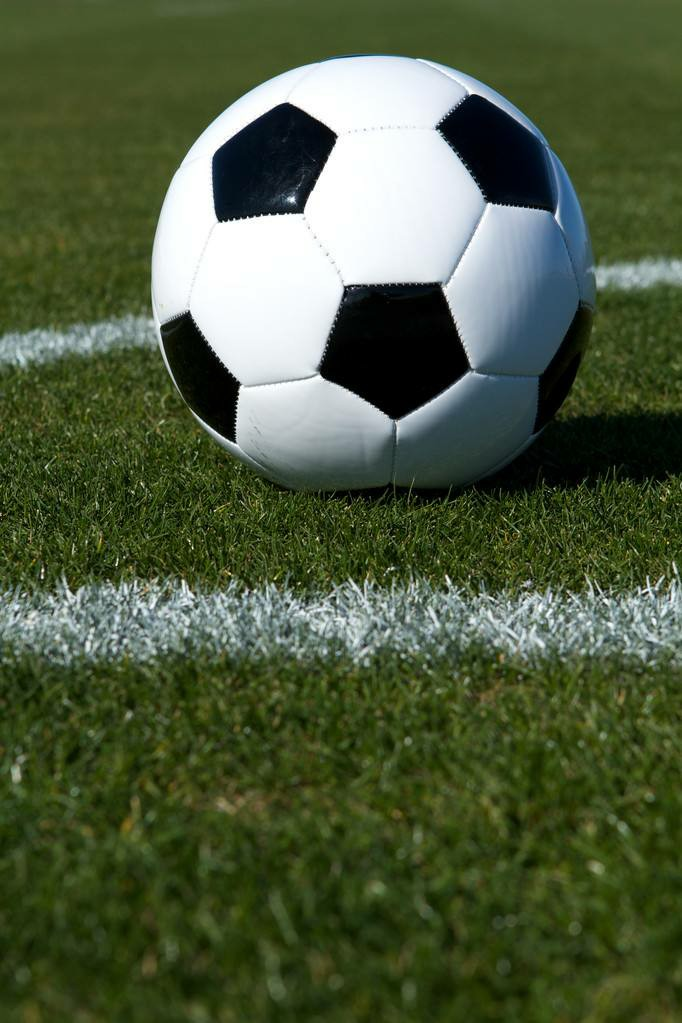football: (150, 53, 597, 506)
